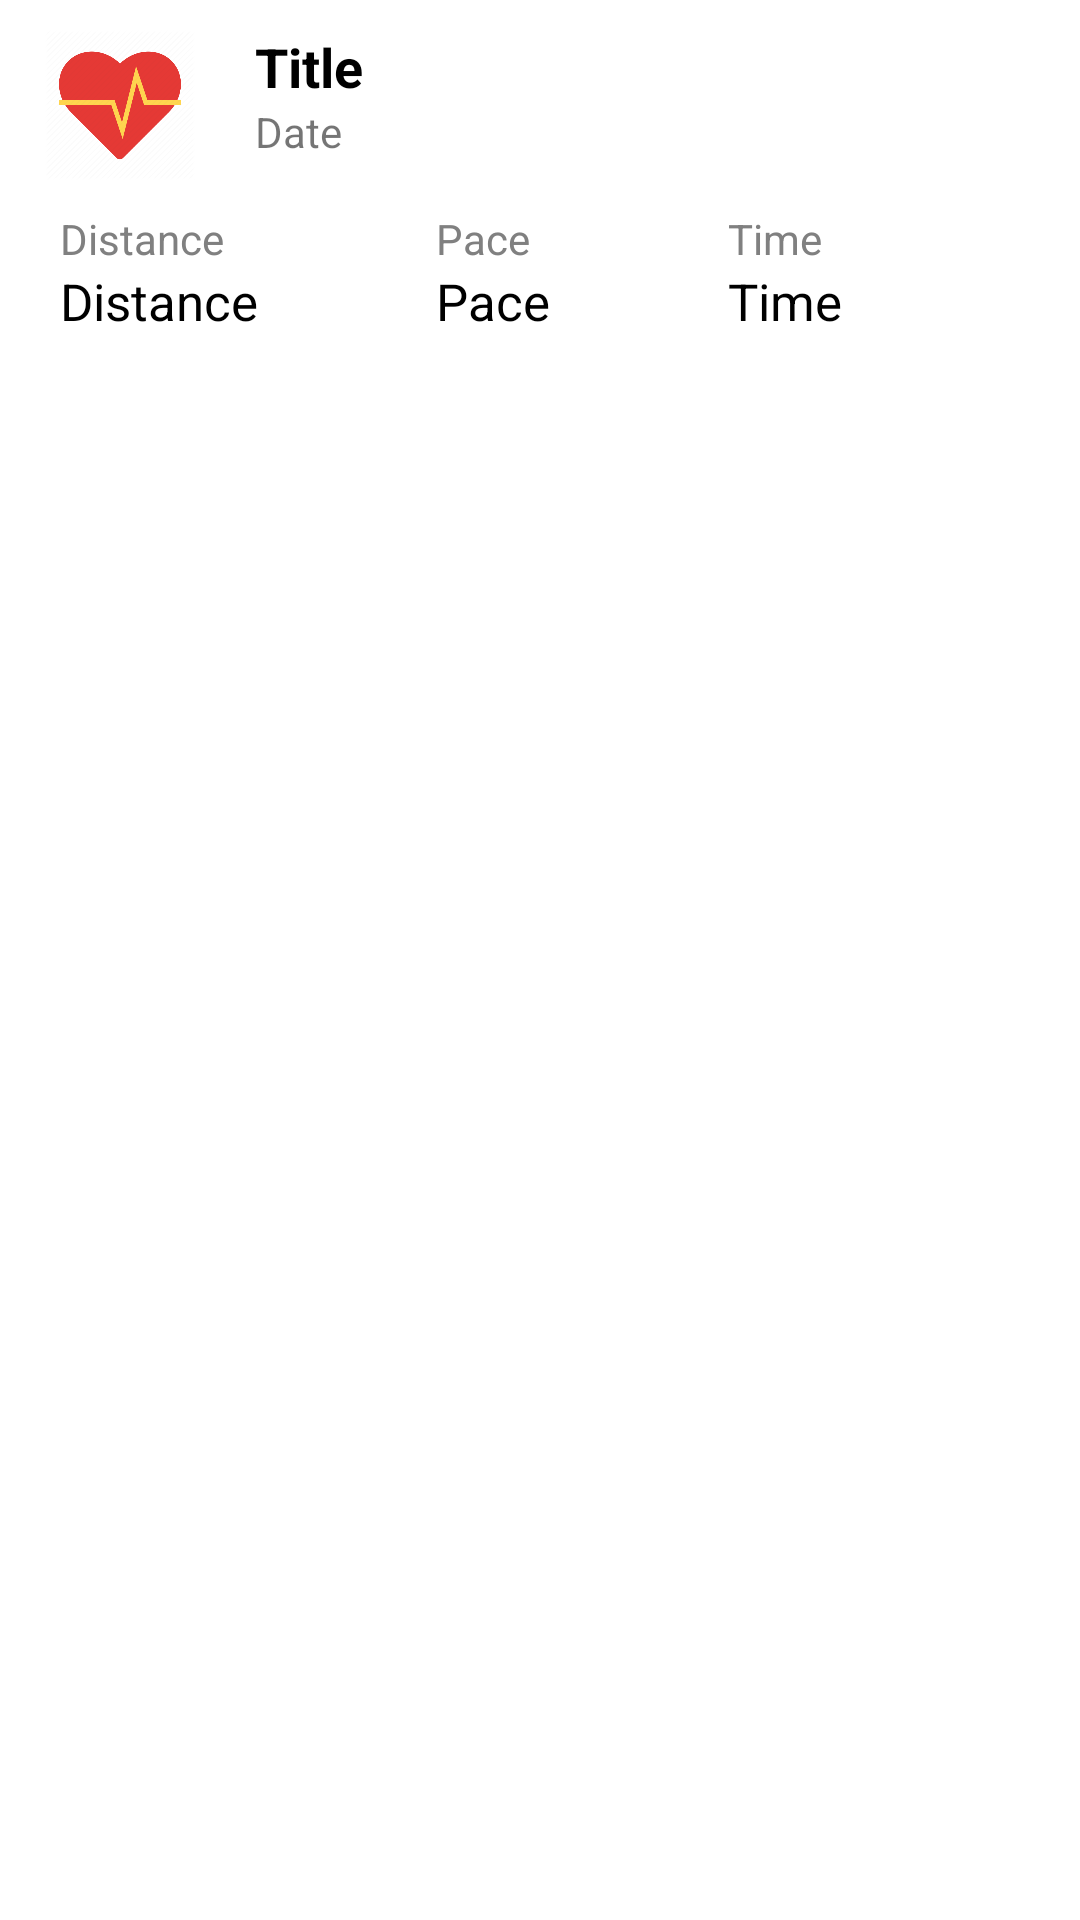

Locate icon controls on the screen. Image size 1080 × 1920, boxes as (x1, y1, x2, y2).
heart: (59, 51, 181, 159)
